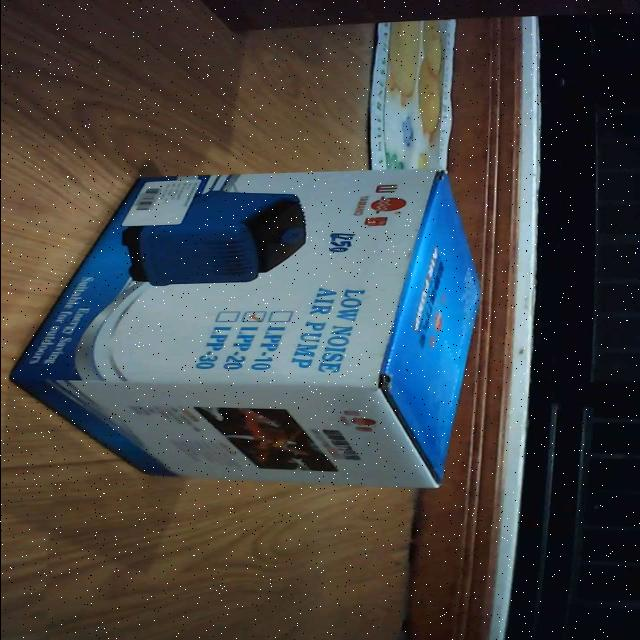YAMANO_LPP_20: (9, 163, 506, 494)
